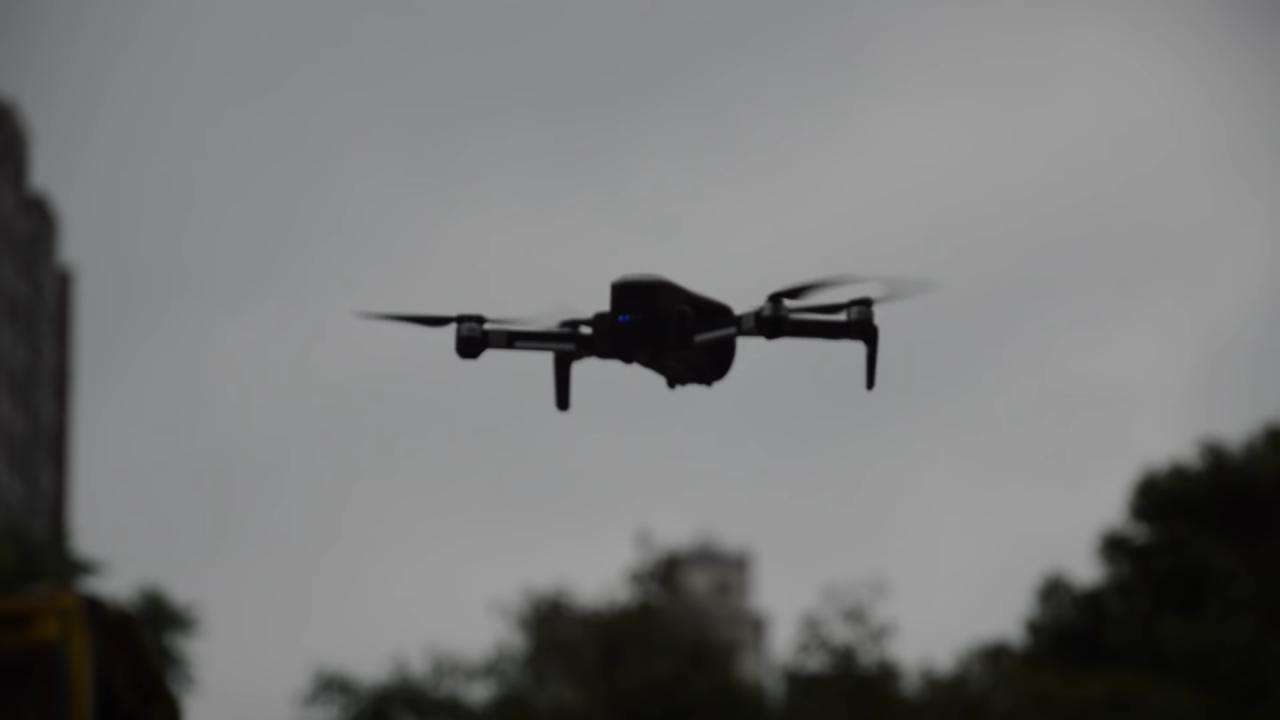Drone: (342, 260, 956, 420)
